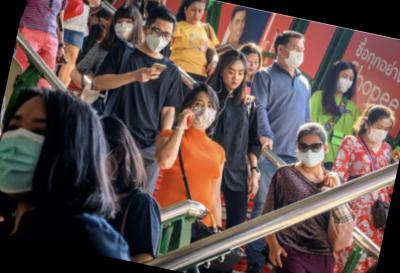with_mask: (291, 137, 329, 172), (187, 97, 220, 133), (141, 24, 175, 57), (280, 43, 308, 73), (363, 120, 392, 148), (111, 17, 136, 43), (334, 70, 356, 96)
without_mask: (220, 65, 248, 92), (242, 56, 261, 78), (186, 4, 205, 25)
